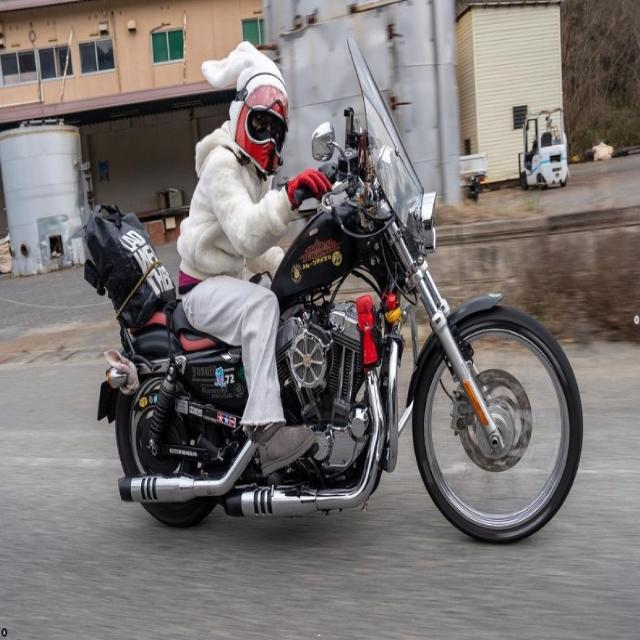illegal_helmet: (197, 35, 291, 181)
